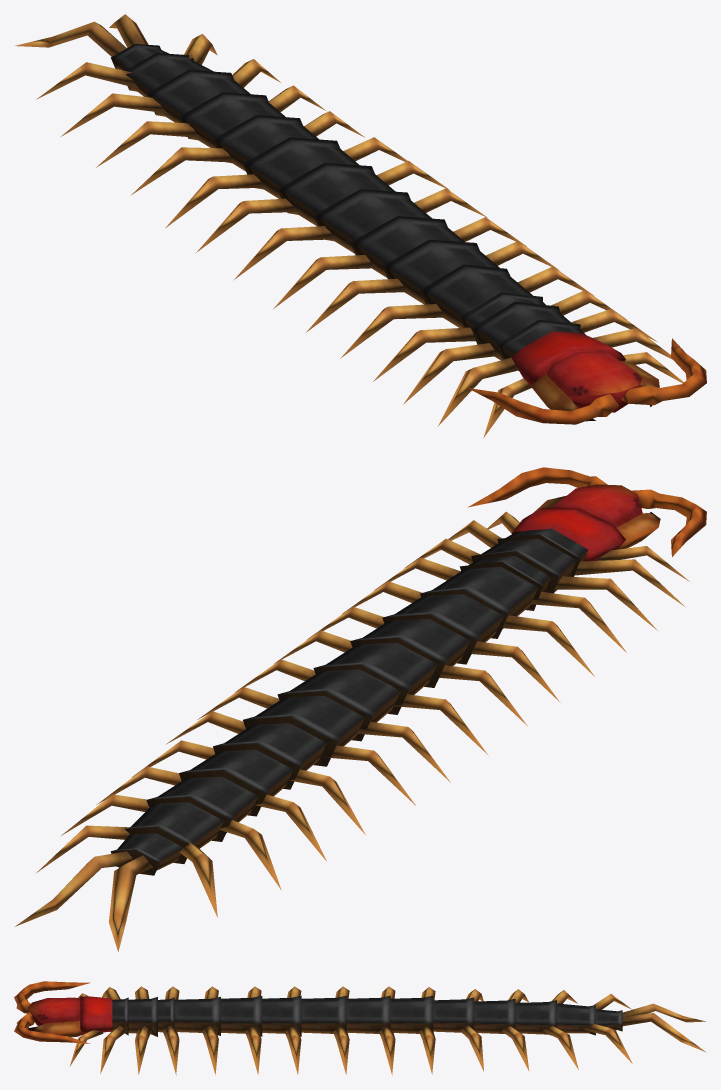
The model's file is InsectMukade.glb.
3 views of the same model, one above another, from view 1: azimuth 30°, elevation 25°; view 2: azimuth 150°, elevation 25°; view 3: azimuth 270°, elevation 25° (orthographic). The views are drawn at different scales.
Parts seen in each view (by area): view 1: Mdl_Root__mMukade; view 2: Mdl_Root__mMukade; view 3: Mdl_Root__mMukade.
Boxes of the visible parts, x1=… form: Mdl_Root__mMukade: x1=15, y1=14, x2=706, y2=438; Mdl_Root__mMukade: x1=15, y1=467, x2=706, y2=951; Mdl_Root__mMukade: x1=14, y1=981, x2=706, y2=1075.
Size of the model in its own units: 1.7 by 0.3846 by 6.52.
1 material, 1 textured.
